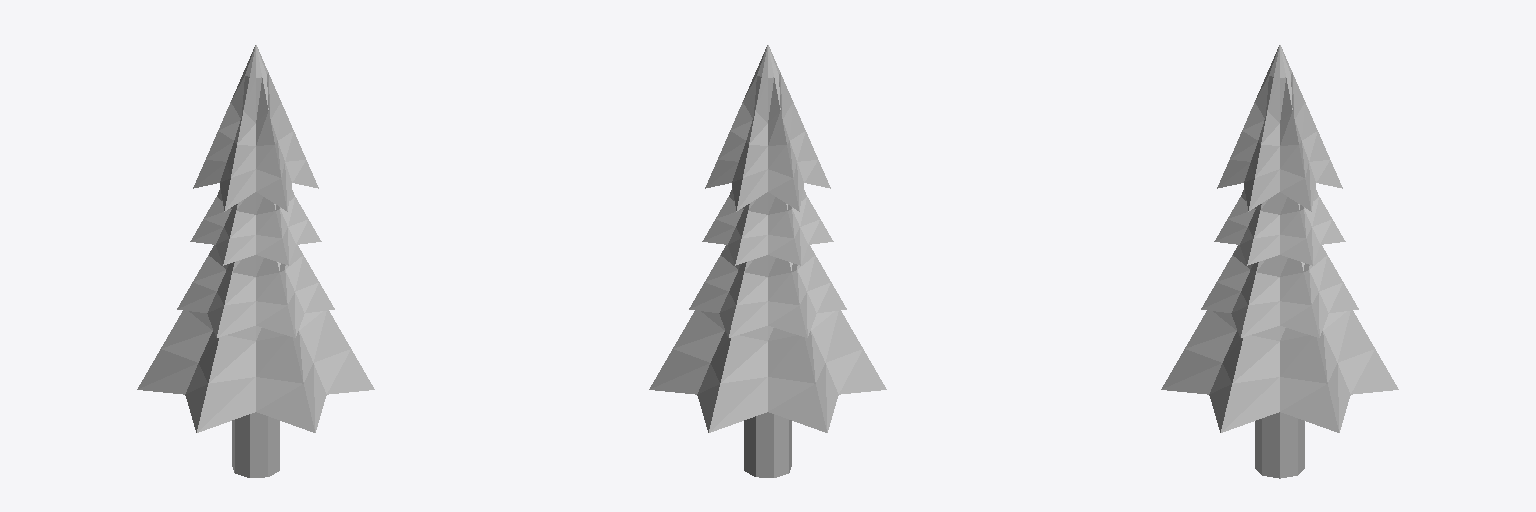
File: tallerPineTree.obj
3 renders of one model, left to right at view 1: azimuth 30°, elevation 25°; view 2: azimuth 150°, elevation 25°; view 3: azimuth 270°, elevation 25°, orthographic.
Visible parts, largest first — view 1: TallerPineTree; view 2: TallerPineTree; view 3: TallerPineTree.
Part boxes in pixels (x1,y1,x2,y2): TallerPineTree: (137, 45, 374, 477); TallerPineTree: (649, 45, 886, 477); TallerPineTree: (1161, 45, 1398, 478).
Bounding box in the file's own units: 104 × 236 × 120.